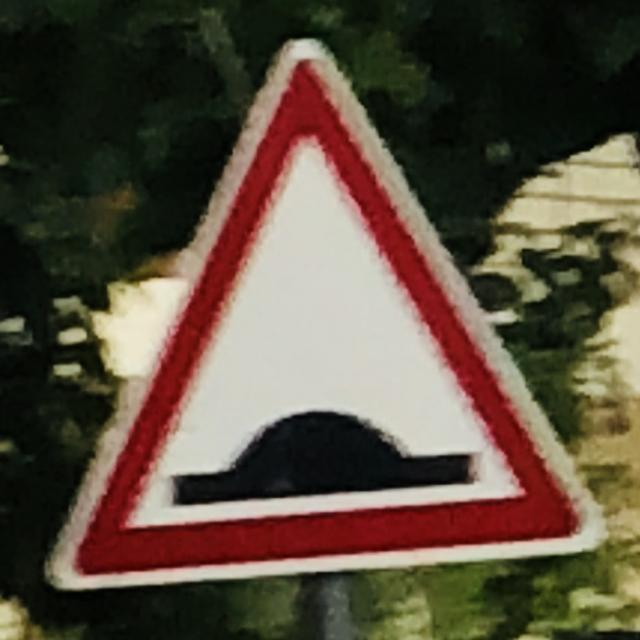hump or rough road: (57, 38, 607, 578)
